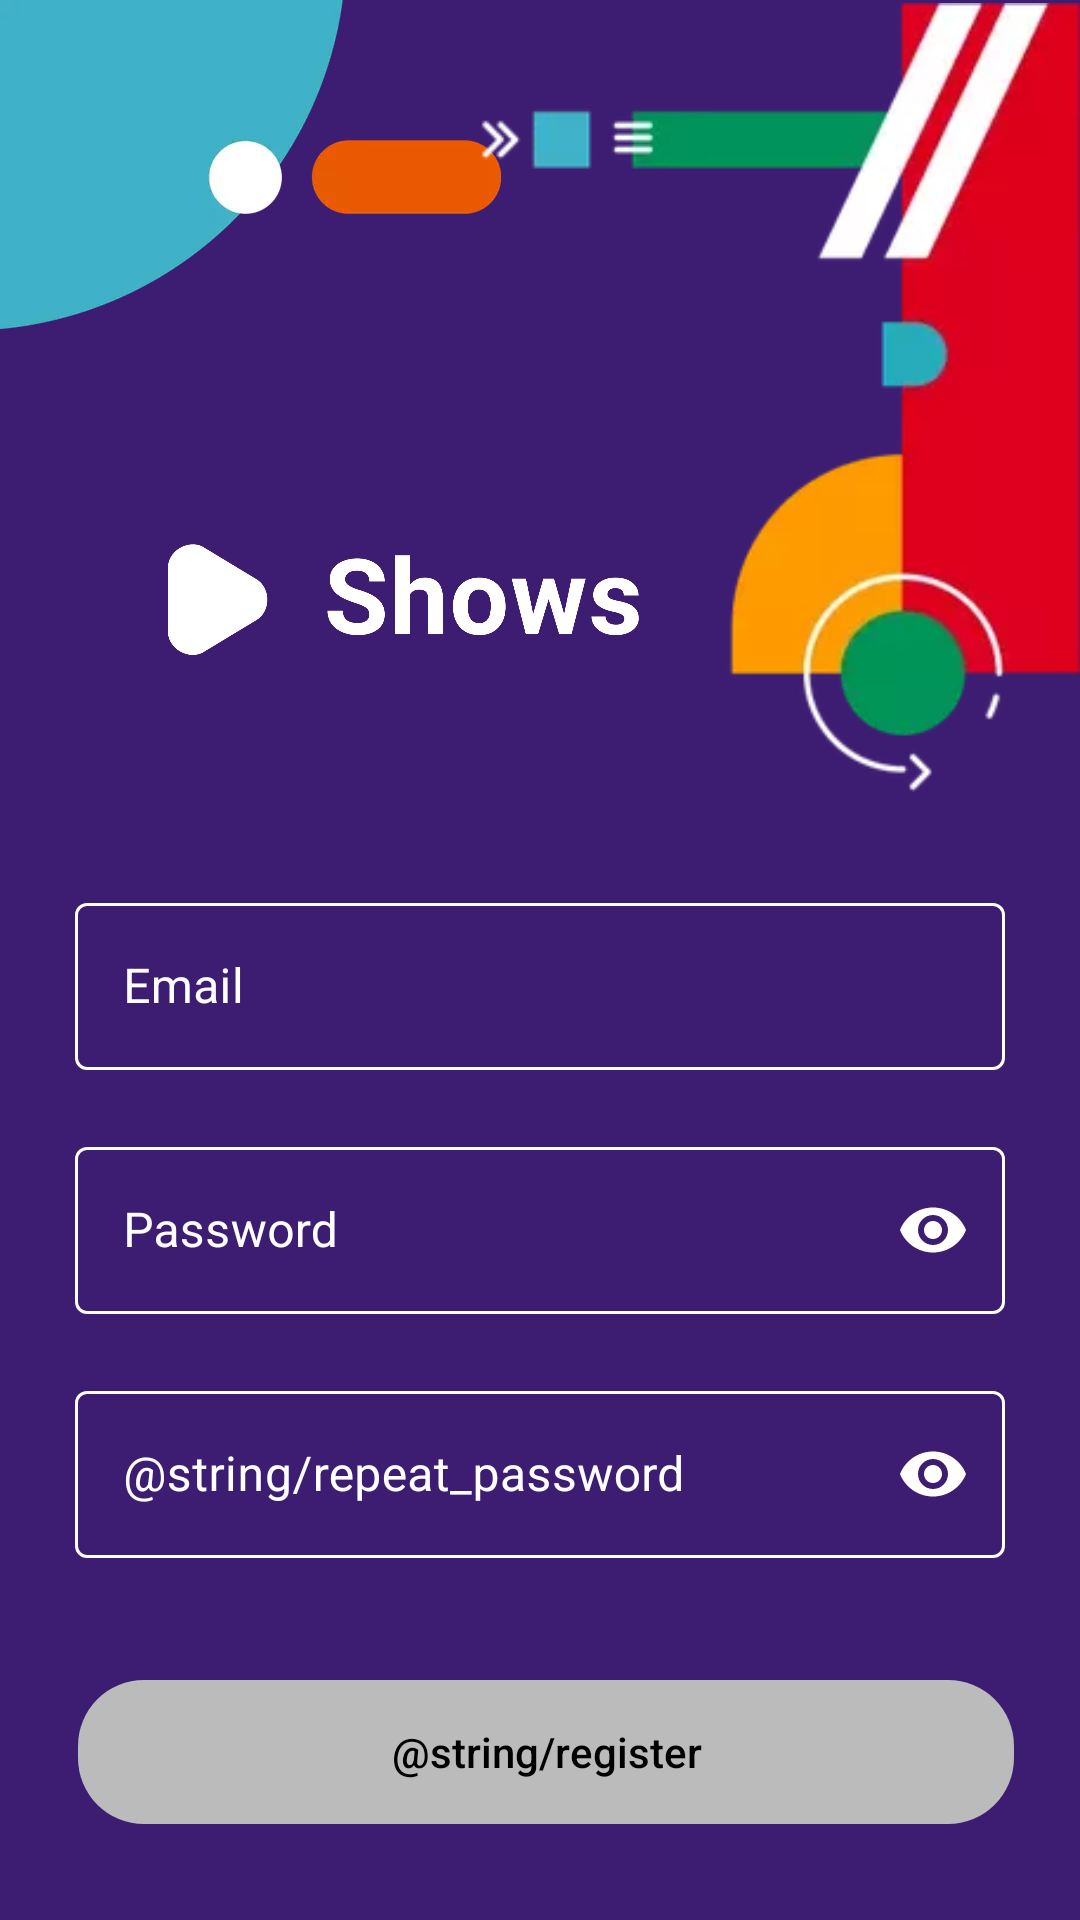

Icon bounding boxes for this 1080px×1920px phone screenshot, format (x1, y1, x2, y2):
top left illustration: (0, 0, 343, 329)
